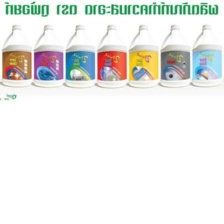cleaning_solution: (61, 22, 98, 90), (188, 21, 224, 89), (157, 23, 193, 89), (126, 22, 161, 89), (95, 23, 129, 90), (0, 21, 34, 88), (32, 23, 66, 89)
